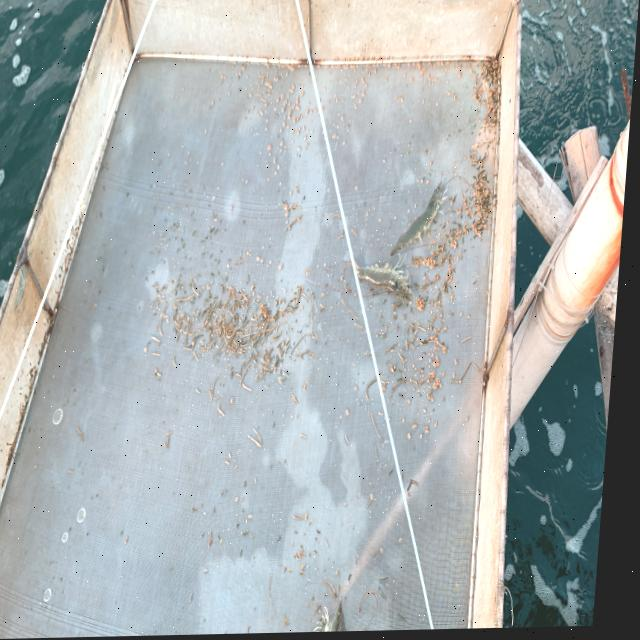Shrimp feeds: (295, 115, 305, 124), (266, 82, 274, 90), (290, 110, 294, 120), (298, 97, 302, 106), (352, 411, 357, 418), (284, 122, 289, 128), (269, 146, 274, 152), (307, 109, 311, 116), (299, 147, 304, 152), (282, 95, 286, 101), (316, 108, 320, 114), (293, 130, 297, 136), (309, 386, 312, 393), (149, 348, 153, 353), (282, 142, 286, 147), (293, 84, 296, 90), (306, 136, 309, 142), (358, 187, 361, 192), (303, 92, 306, 97), (303, 85, 305, 89)
